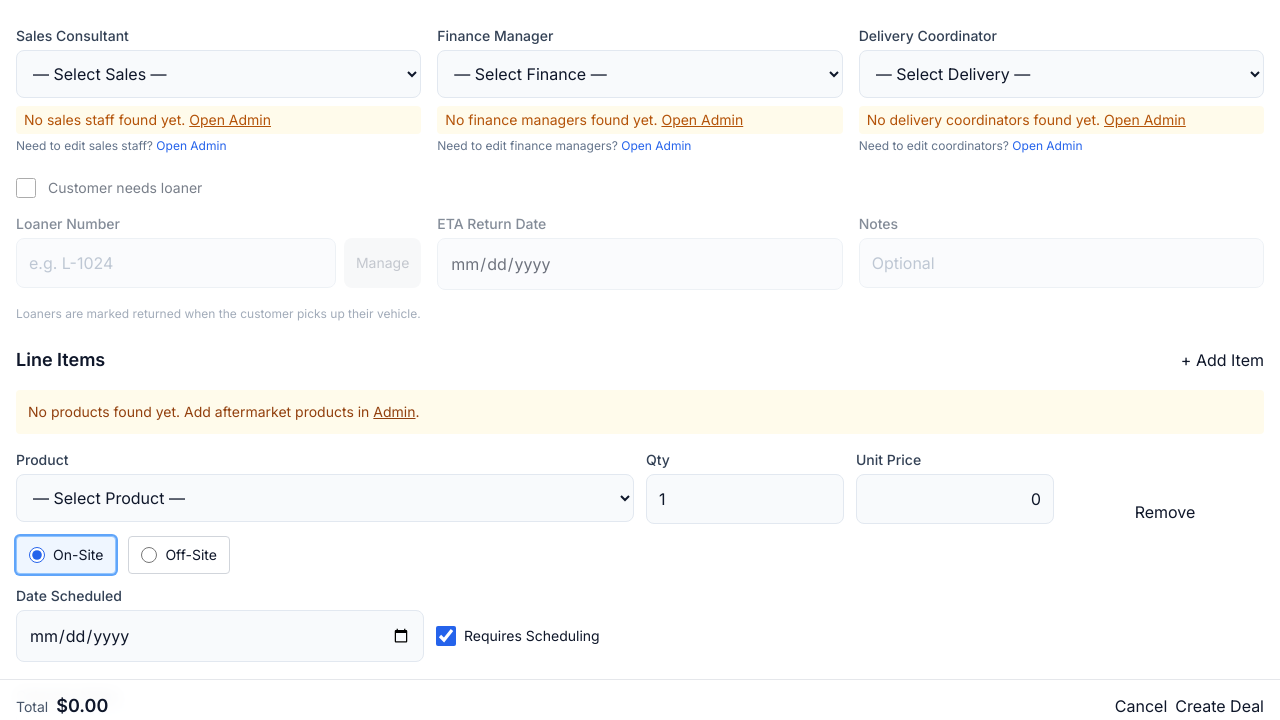
DealForm Loaner Toggle › adds a new line item when add button is clicked
(page scrolled)
Expected: the element with test id "line-0" is shown, [16,450,1264,662]
// Click add button
Click the button with test id "add-line-item-btn" at x=1222, y=360, box [1181,348,1264,372]
(page scrolled)
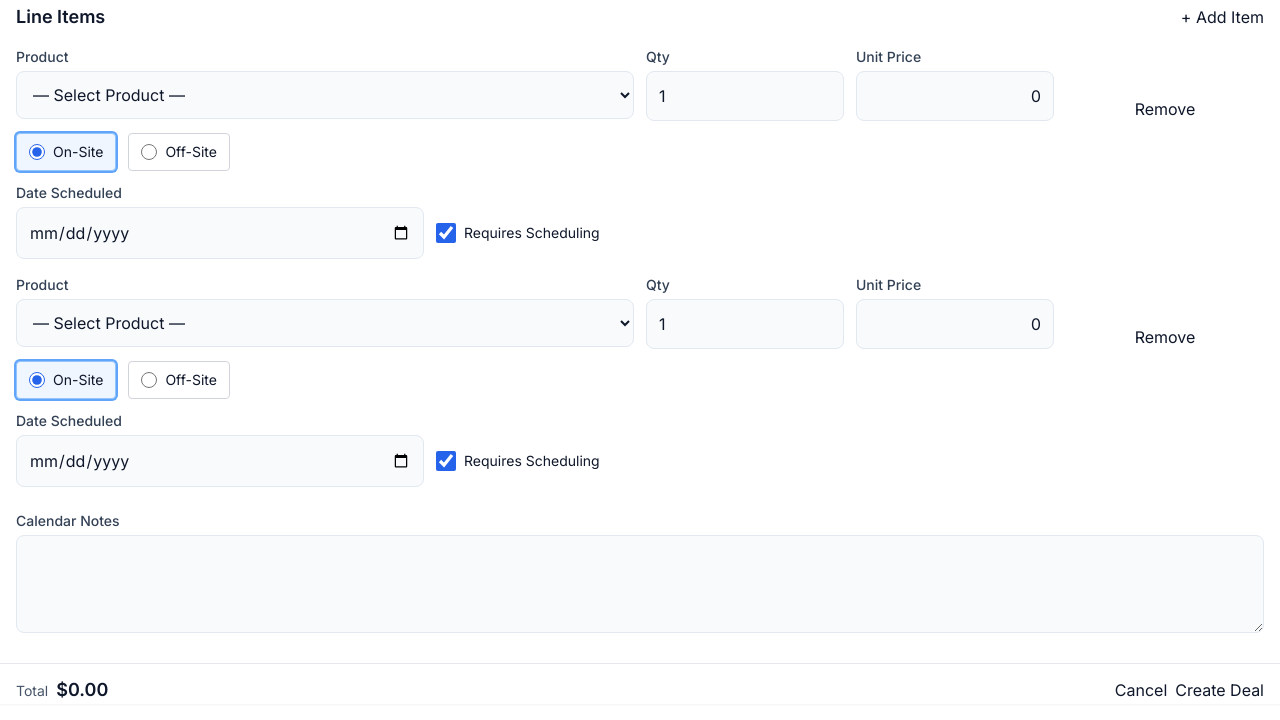
Result: the element with test id "line-1" is shown at [16,275,1264,487]
